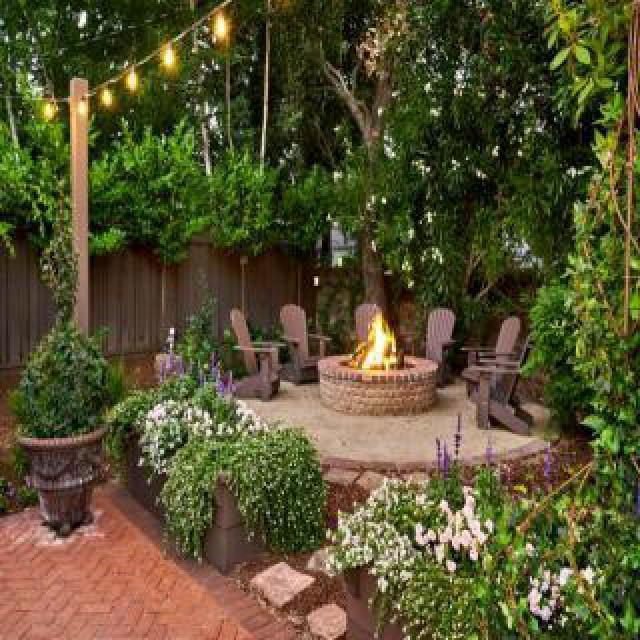zfire: (350, 316, 406, 372)
